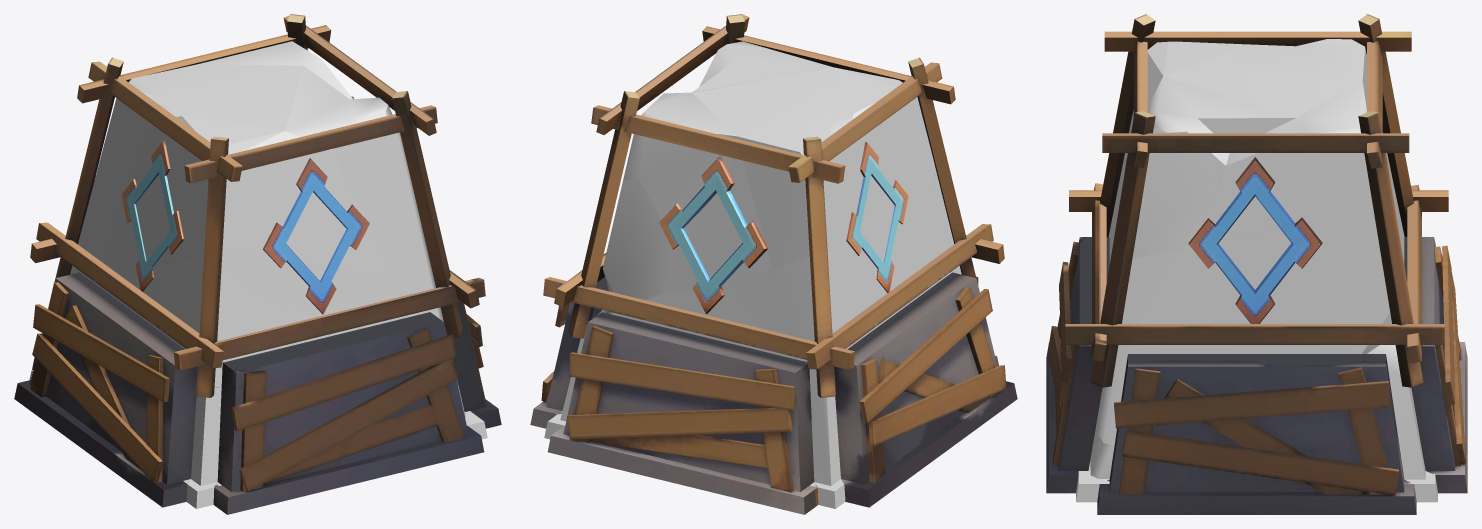
The model's file is desert_wall.glb.
3 views of the same model, side by side, from view 1: azimuth 30°, elevation 25°; view 2: azimuth 150°, elevation 25°; view 3: azimuth 270°, elevation 25° (orthographic). The views are drawn at different scales.
Parts seen in each view (by area): view 1: S_desert_wall, polySurface122, polySurface118, polySurface115, polySurface121, polySurface120, polySurface117, polySurface123, polySurface119; view 2: S_desert_wall, polySurface115, polySurface123, polySurface122, polySurface117, polySurface116, polySurface120, polySurface121, polySurface118; view 3: S_desert_wall, polySurface119, polySurface118, polySurface123, polySurface115, polySurface116, polySurface120, polySurface122, polySurface121.
Boxes of the visible parts, x1,y1,x2,y2 form: S_desert_wall: [14, 14, 501, 514]; polySurface122: [117, 116, 398, 320]; polySurface118: [285, 65, 420, 289]; polySurface115: [97, 64, 303, 201]; polySurface121: [134, 260, 398, 387]; polySurface120: [29, 270, 487, 508]; polySurface117: [70, 171, 133, 275]; polySurface123: [198, 41, 352, 99]; polySurface119: [389, 223, 458, 384]; S_desert_wall: [530, 14, 1017, 514]; polySurface115: [692, 67, 853, 268]; polySurface123: [623, 92, 771, 281]; polySurface122: [834, 67, 936, 285]; polySurface117: [716, 254, 875, 380]; polySurface116: [602, 179, 697, 300]; polySurface120: [544, 286, 902, 508]; polySurface121: [876, 172, 961, 308]; polySurface118: [692, 41, 832, 92]; S_desert_wall: [1046, 14, 1467, 514]; polySurface119: [1097, 228, 1354, 444]; polySurface118: [1132, 76, 1295, 258]; polySurface123: [1201, 81, 1373, 240]; polySurface115: [1164, 39, 1382, 132]; polySurface116: [1306, 209, 1391, 353]; polySurface120: [1076, 345, 1437, 502]; polySurface122: [1123, 41, 1252, 181]; polySurface121: [1108, 153, 1126, 263].
Size of the model in its own units: 0.00973 by 0.00918 by 0.00973.
1 material, 1 textured.
